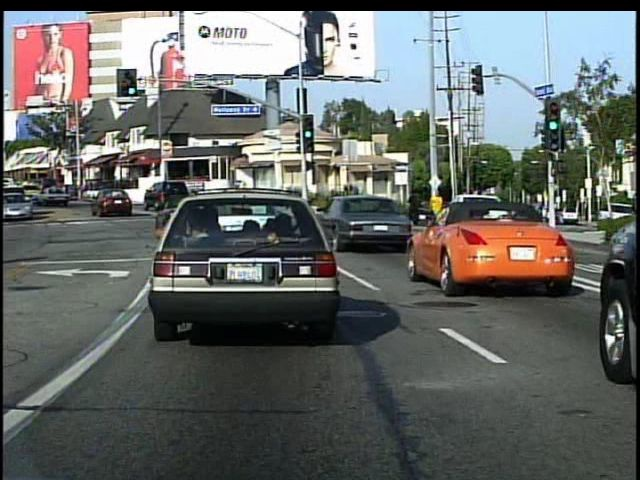person: (405, 188, 423, 229), (428, 187, 446, 226)
